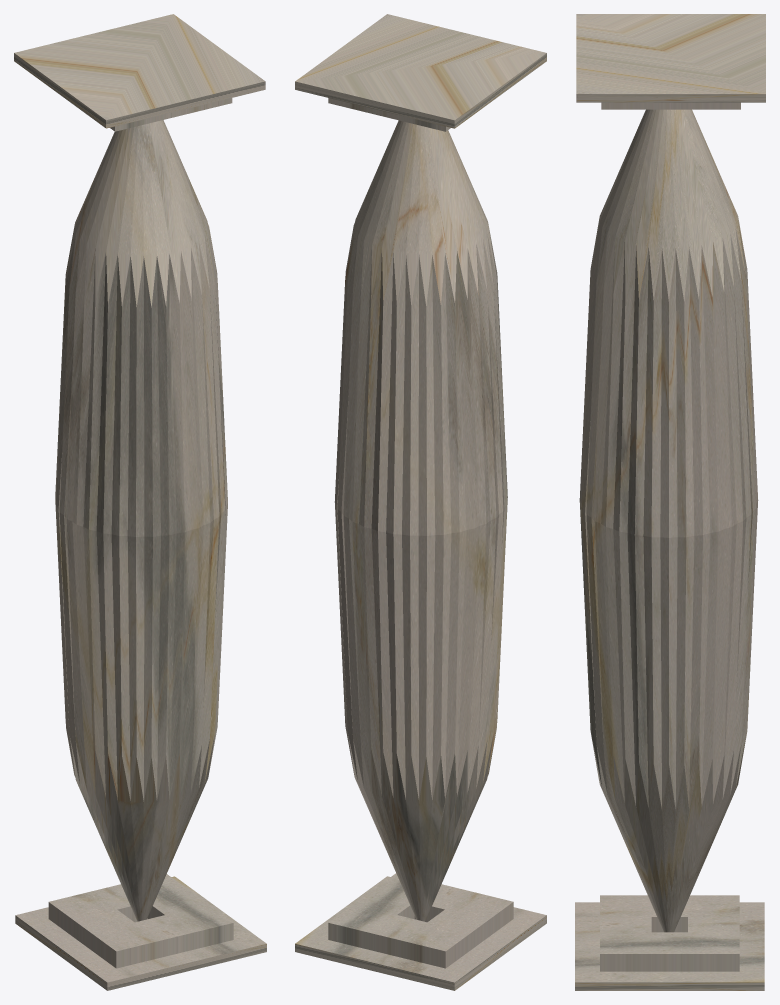
Rendered from pilar.fbx.
3 views of the same model, side by side, from view 1: azimuth 30°, elevation 25°; view 2: azimuth 150°, elevation 25°; view 3: azimuth 270°, elevation 25° (orthographic). The views are drawn at different scales.
Visible parts, largest first — view 1: Cube.008; view 2: Cube.008; view 3: Cube.008.
Part boxes in pixels (x1,y1,x2,y2): Cube.008: [14, 14, 266, 990]; Cube.008: [295, 14, 546, 990]; Cube.008: [575, 14, 765, 990].
Size of the model in its own units: 201 by 1043 by 201.
